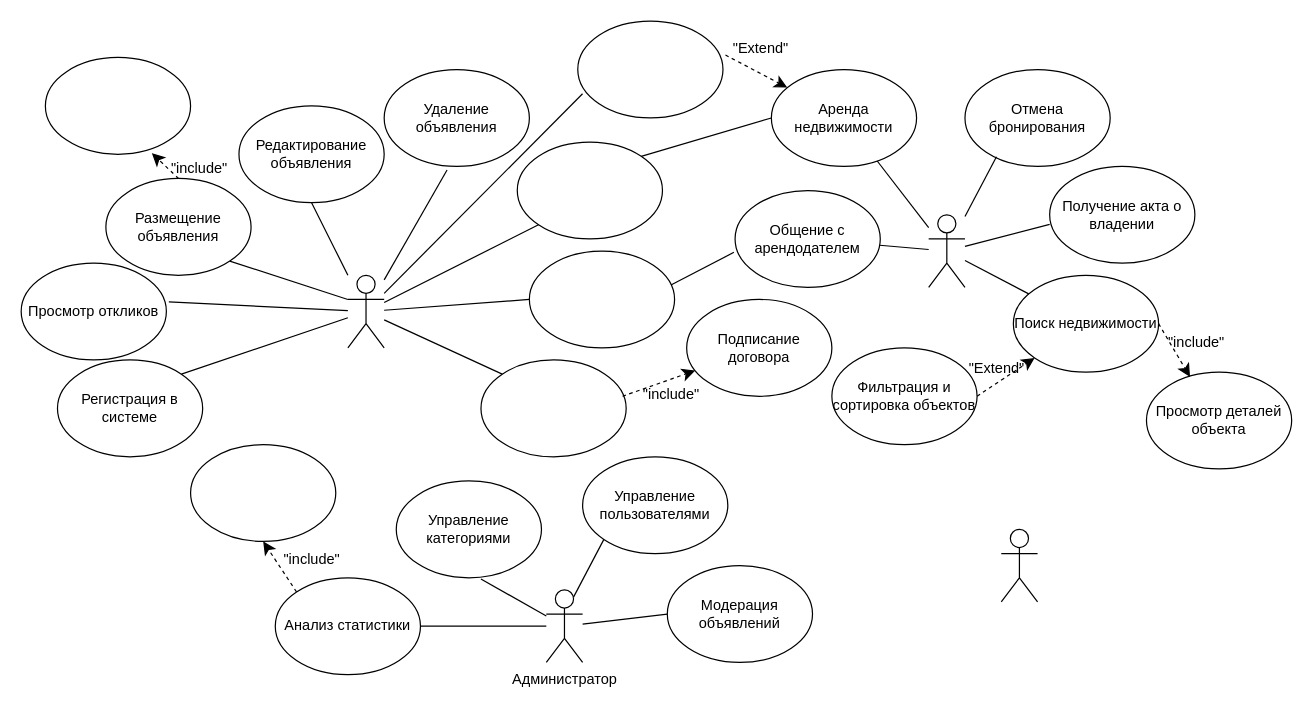
Image size: 1313x709. Some labels were removed from this diagram. The centre of each missing label's shape, as x and y in pixels:
Агент: point 1019,565
Арендатор: point 946,250
Арендодатель: point 365,311
Генерация договора купли-продажи: point 553,408
Генерация отчета о статистике: point 262,492
Категоризация недвижимости: point 117,105
Общение с клиентом: point 601,299
Подтверждение заявки: point 589,190
Управление календарем доступности: point 650,69
